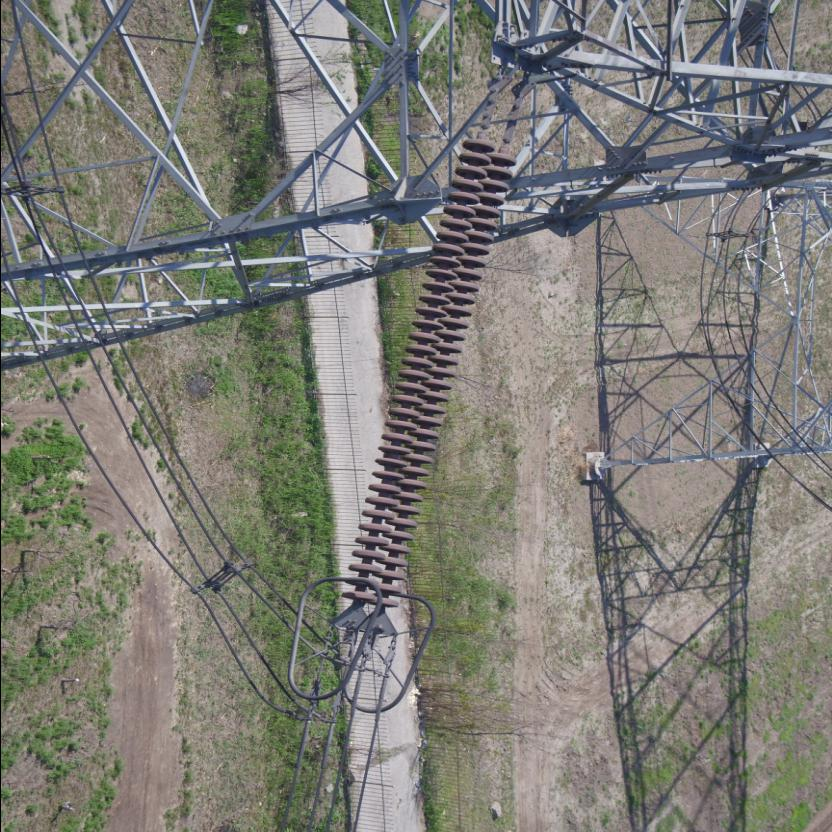insulator: (337, 108, 520, 618)
